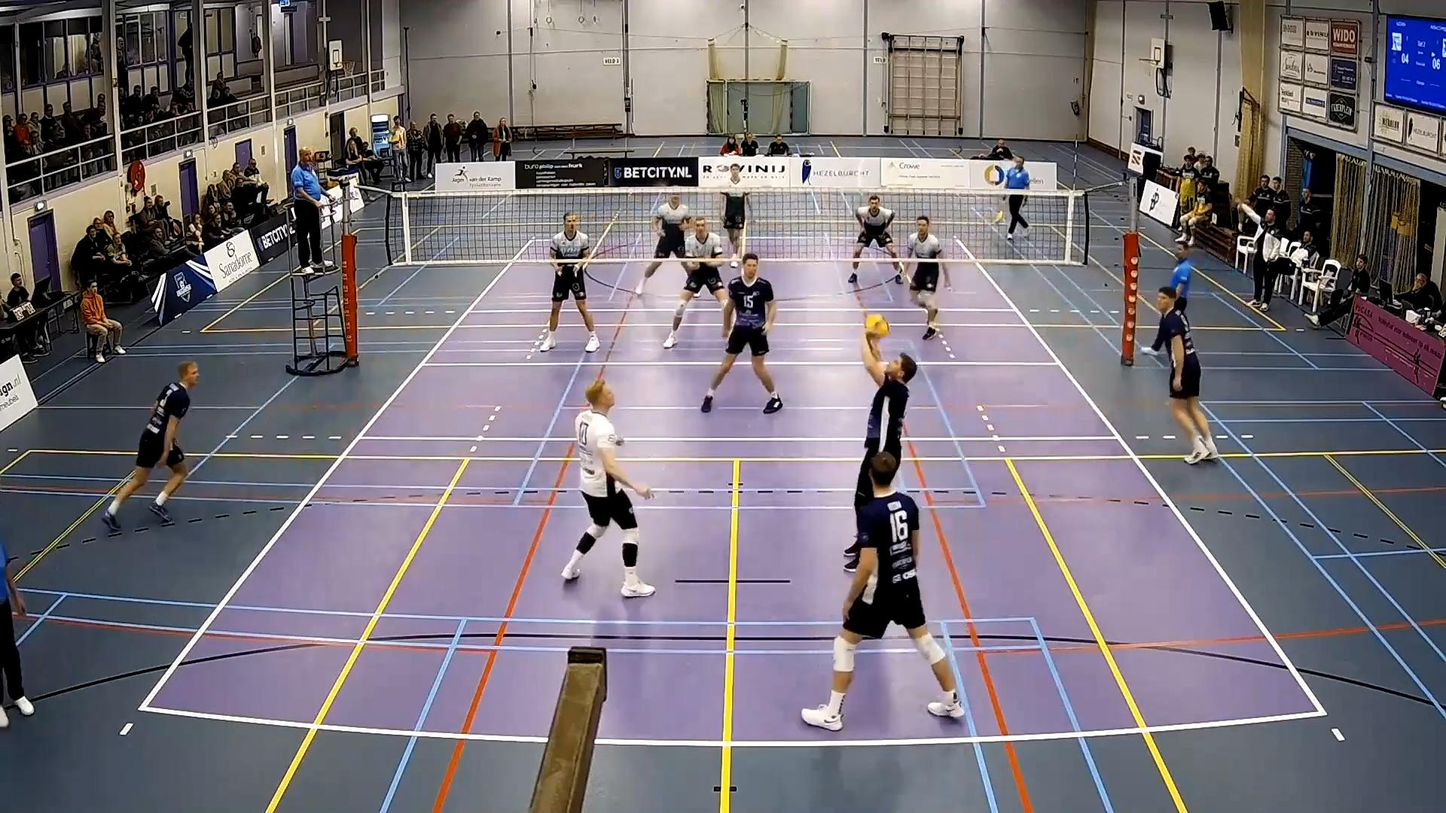Player: (801, 453, 963, 730), (562, 379, 654, 597), (102, 361, 199, 531), (701, 252, 782, 413), (1156, 286, 1218, 464), (538, 212, 599, 352), (663, 217, 725, 349), (634, 193, 690, 295), (848, 195, 902, 284), (905, 215, 941, 340), (721, 164, 750, 267)
Set: (839, 337, 913, 527)
ball: (866, 315, 892, 334)
